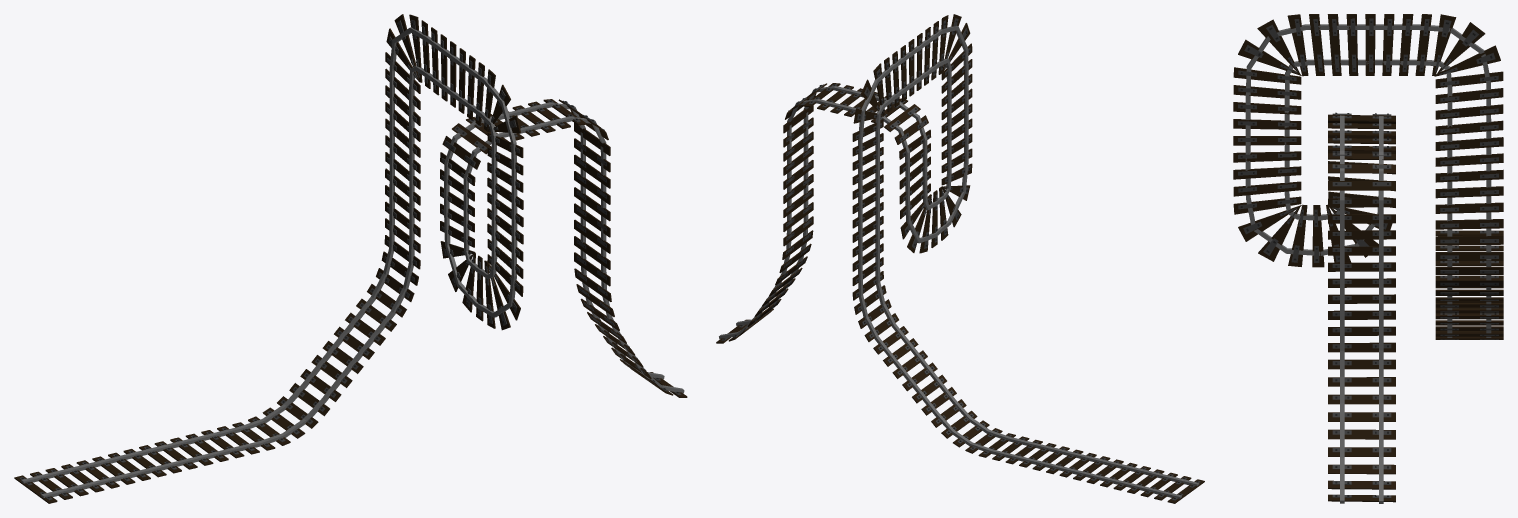
Rendered from rail_wtf.fbx.
3 renders of one model, left to right at view 1: azimuth 30°, elevation 25°; view 2: azimuth 150°, elevation 25°; view 3: azimuth 270°, elevation 25°, orthographic. The views are drawn at different scales.
Visible parts, largest first — view 1: Plane.009; view 2: Plane.009; view 3: Plane.009.
Part boxes in pixels (x1,y1,x2,y2): Plane.009: [14, 14, 687, 503]; Plane.009: [716, 14, 1204, 503]; Plane.009: [1233, 14, 1503, 503].
Bounding box in the file's own units: 23.31 × 14.97 × 9.43.
